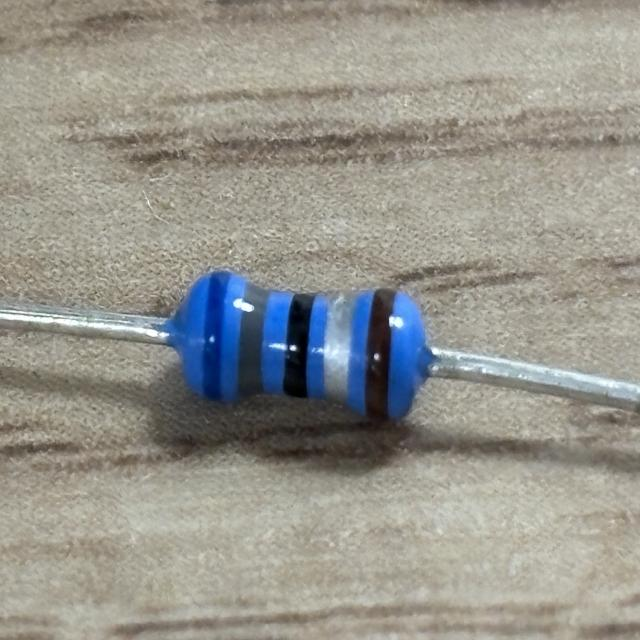resistor: (184, 265, 418, 426)
